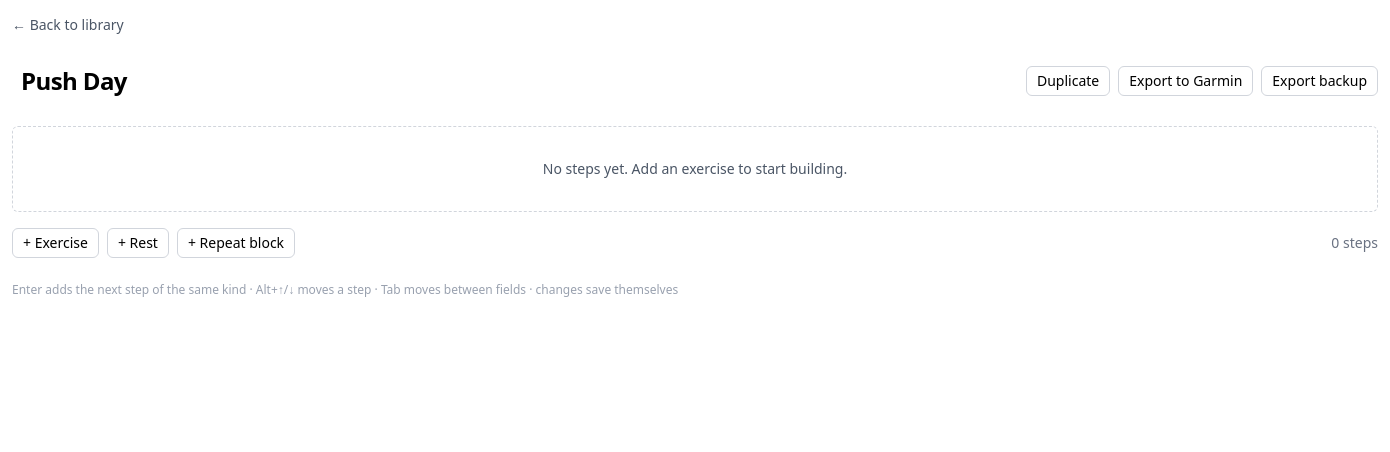
Test case: WorkoutEditor › switches how a step ends, and drops the fields that no longer apply
The width and height of the screenshot is (1390, 452).
Click the button "+ Exercise": (55, 243) [12,228,99,258]
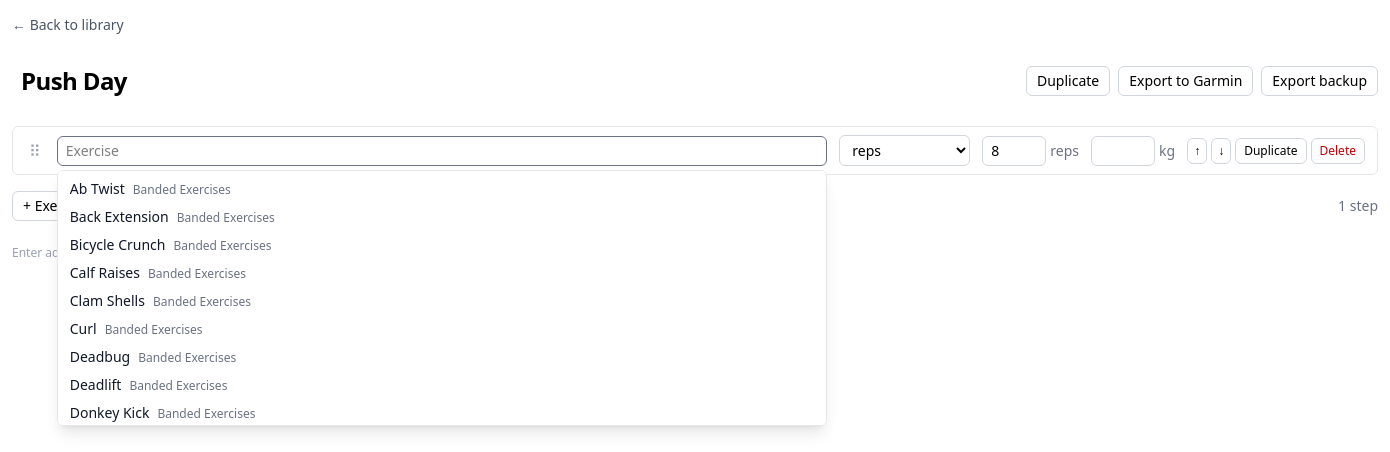
Now the number field labelled "reps" holds "8", box [982,136,1046,166]
Select "time" in the dropdown named "Duration type": (905, 150) [839,135,970,166]
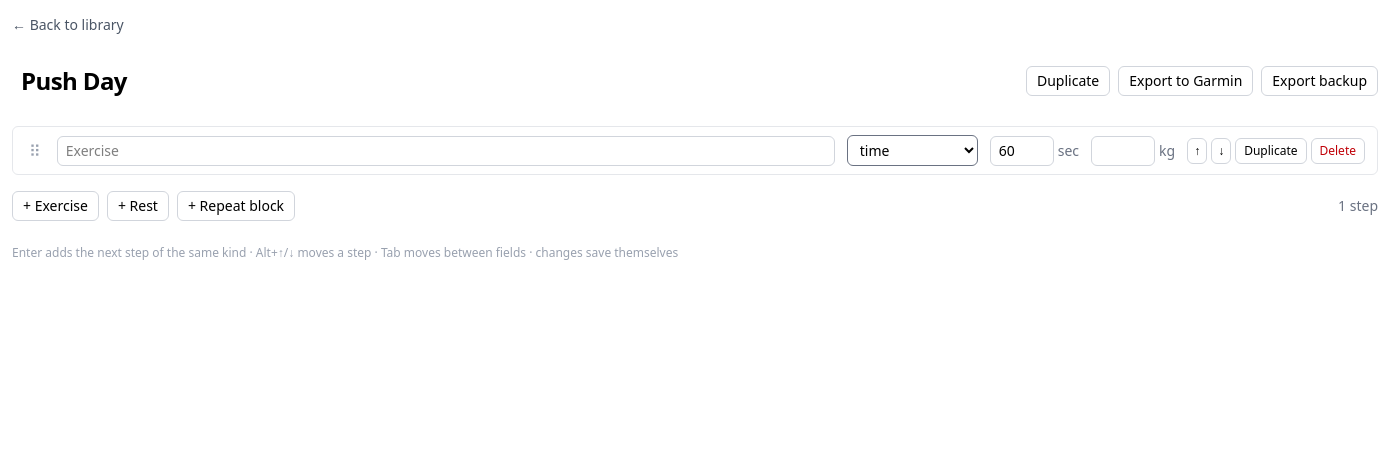
Now the text labelled "reps" is gone
Replace the text in the number field named "Seconds" with "45": (1022, 150) [990,136,1054,166]
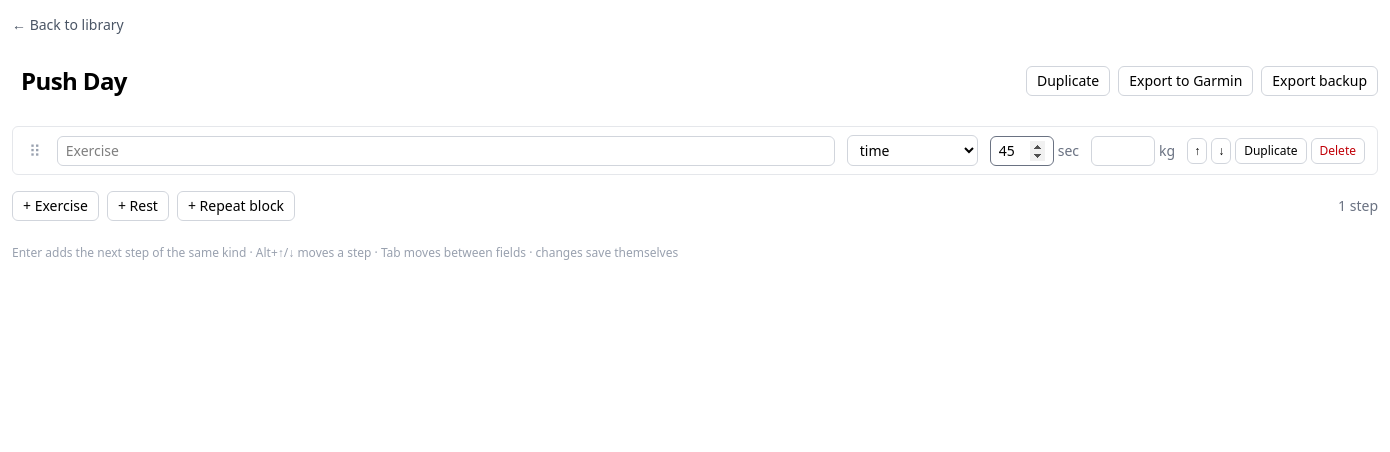
Select "until lap press" in the dropdown named "Duration type": (912, 150) [847,135,978,166]
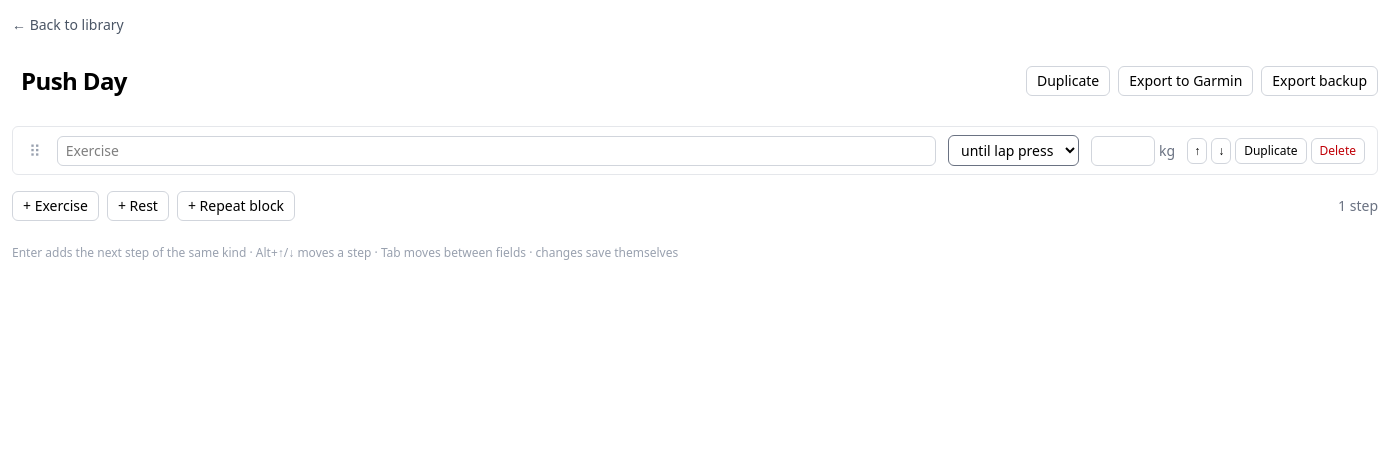
Now the number field labelled "Seconds" is gone
